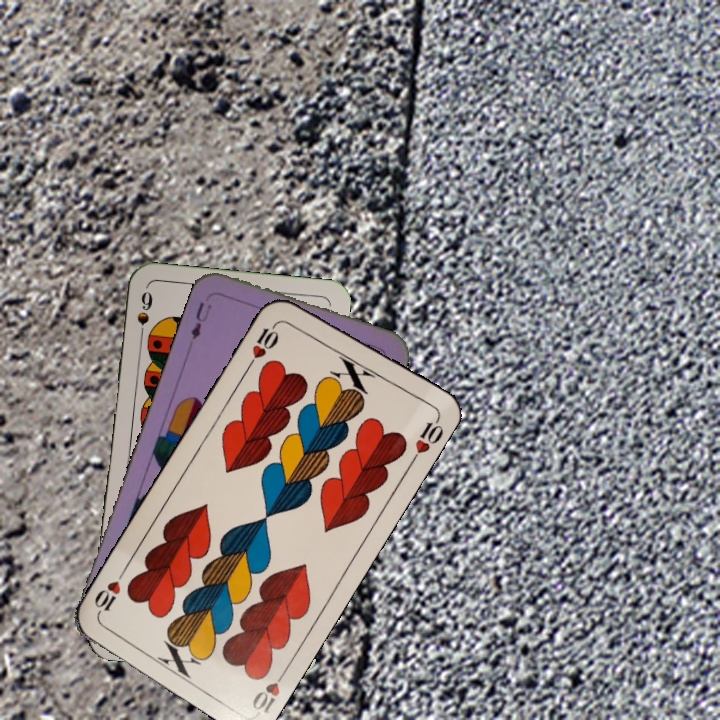EU: (187, 298, 215, 342)
H10: (248, 663, 291, 717), (244, 317, 283, 370)
S9: (133, 287, 155, 345)
